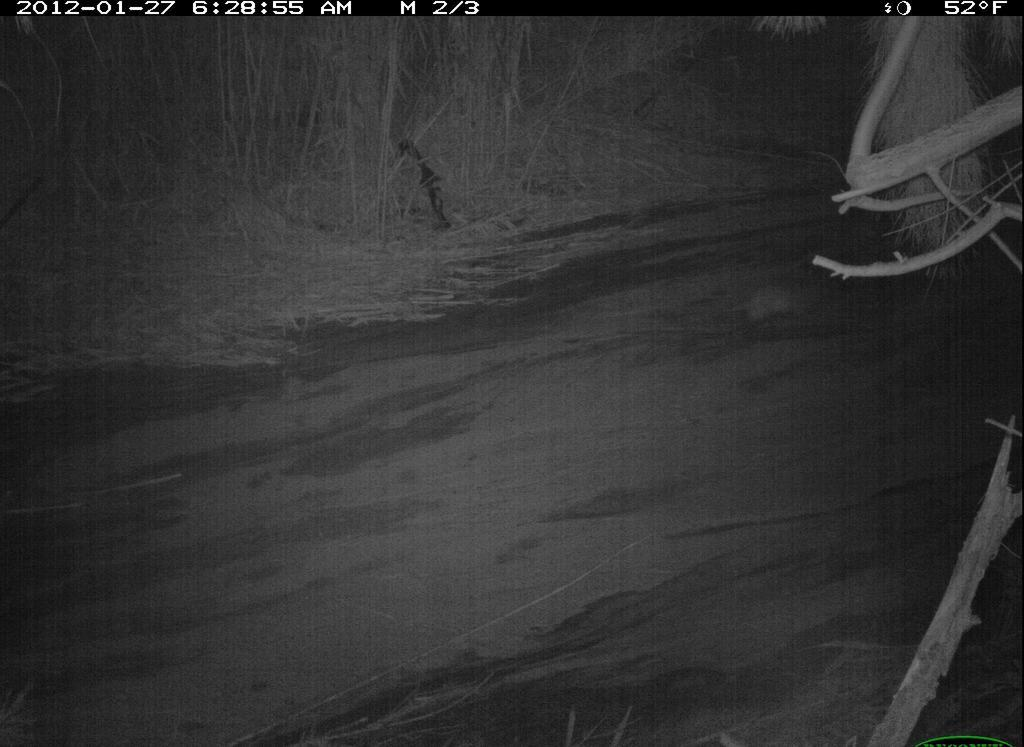opossum: (706, 264, 854, 351)
